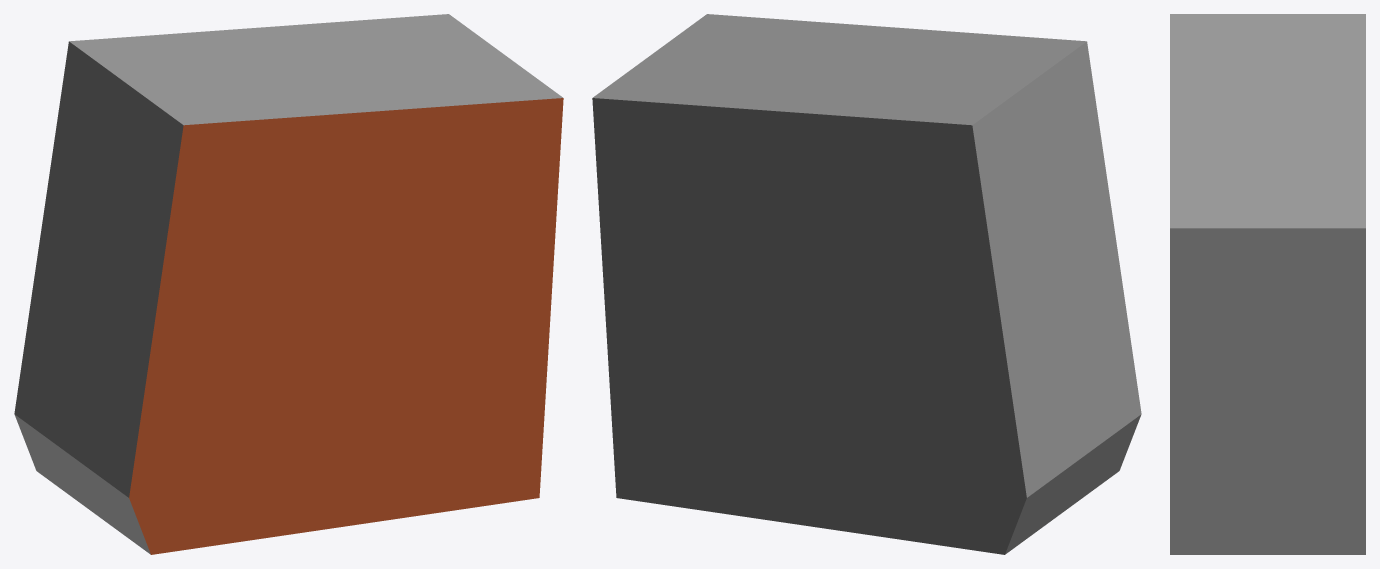
The model's file is construction_2566_assumed_A_Casa_h6m.obj.
3 views of the same model, side by side, from view 1: azimuth 30°, elevation 25°; view 2: azimuth 150°, elevation 25°; view 3: azimuth 270°, elevation 25° (orthographic). The views are drawn at different scales.
Parts seen in each view (by area): view 1: construction_2566_assumed_A_Casa; view 2: construction_2566_assumed_A_Casa; view 3: construction_2566_assumed_A_Casa.
Boxes of the visible parts, x1,y1,x2,y2 form: construction_2566_assumed_A_Casa: (14,14,563,554); construction_2566_assumed_A_Casa: (592,14,1141,554); construction_2566_assumed_A_Casa: (1170,14,1365,554).
Bounding box in the file's own units: 13.12 × 13.26 × 6.
